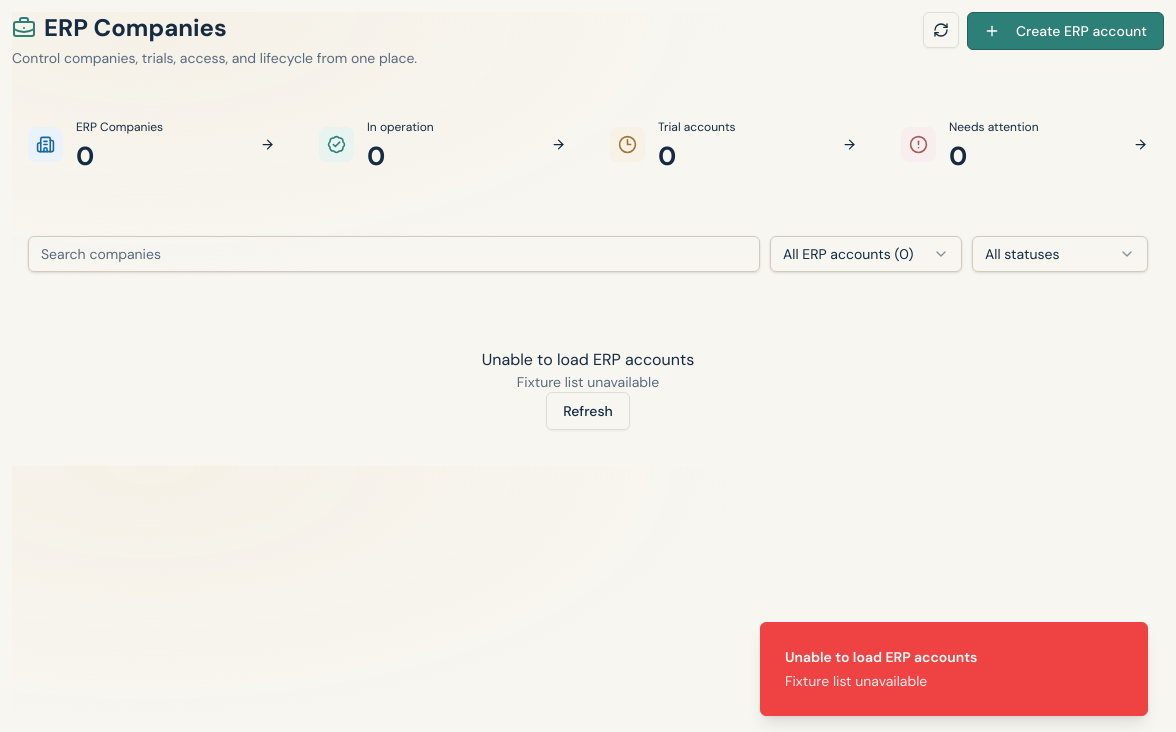
Test: production ERP company identity (two companies share an owner) › loads list failures as an explicit retryable error, not a successful empty company register
Check: the message shows "Fixture list unavailable", box 517,373 -> 659,391
Click the button "Refresh" at (588, 411), box 546,392 -> 630,430
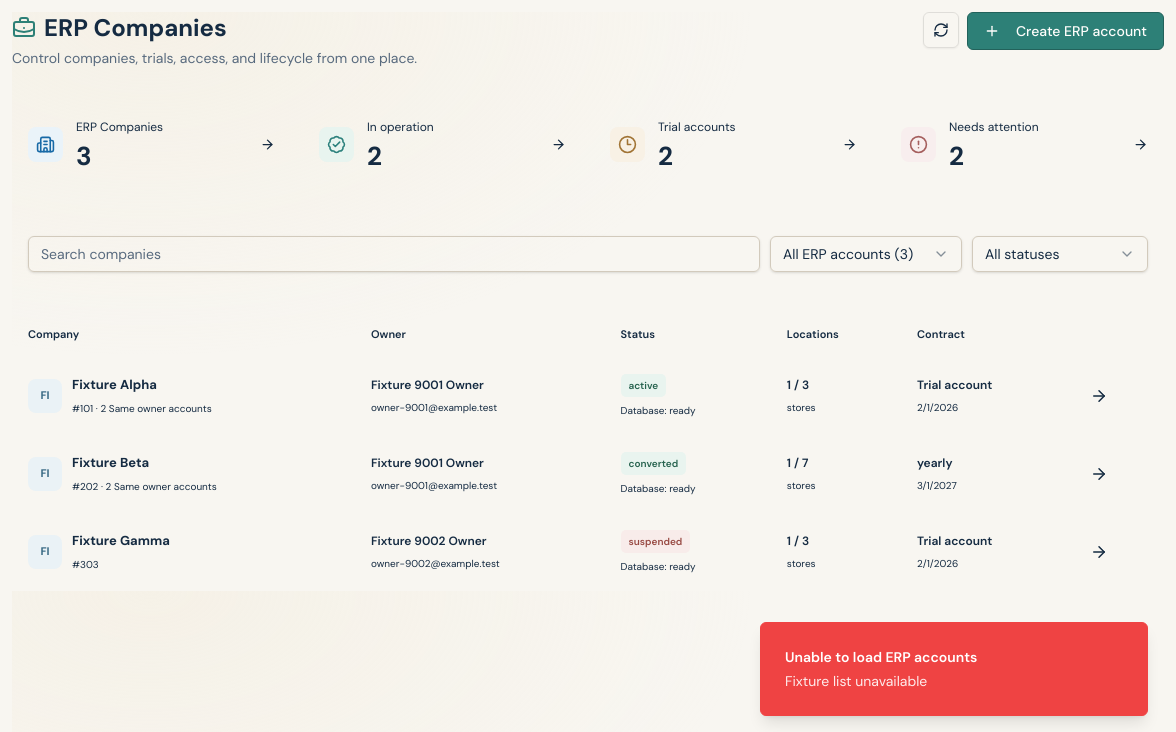
Check: the text "Fixture Alpha" is shown, box 72,376 -> 157,393
Check: the row with test id "company-row-202" is shown, box 12,434 -> 1164,512
